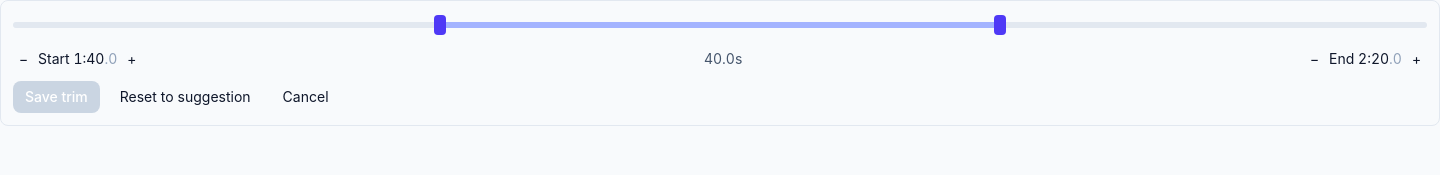
Test: TrimControls › never lets start pass end
Set the slider named "Clip start" to "160". click: (1279, 25)
box: 13,13 -> 1427,37
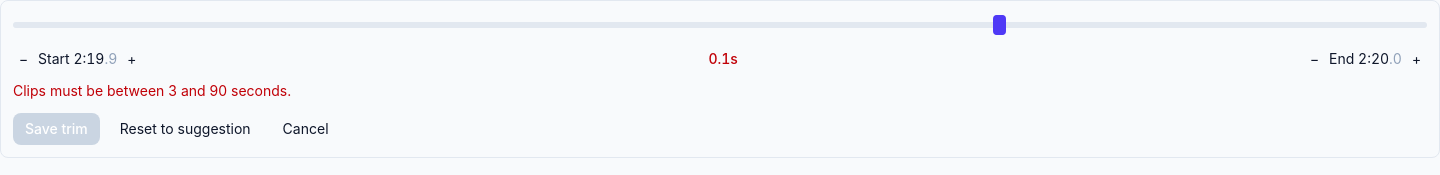
Expected: the slider named "Clip start" holds "139.9", 13,13 -> 1427,37
